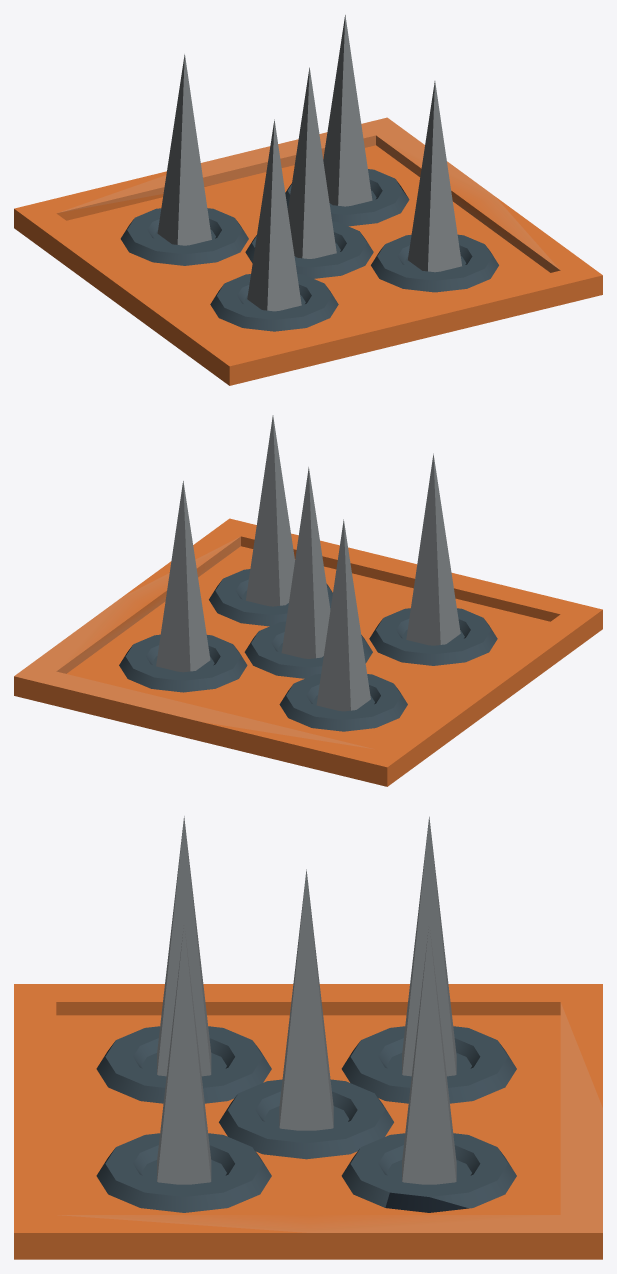
The model's file is Trap_Needle.fbx.
The picture shows the model from 3 angles, top to bottom: view 1: azimuth 30°, elevation 25°; view 2: azimuth 150°, elevation 25°; view 3: azimuth 270°, elevation 25°; orthographic projection. The views are drawn at different scales.
Visible parts, largest first — view 1: Trap_Needle, Needle; view 2: Trap_Needle, Needle; view 3: Trap_Needle, Needle.
Part boxes in pixels (left/top/right/bottom): Trap_Needle: left=14, top=117, right=602, bottom=385; Needle: left=157, top=15, right=461, bottom=311; Trap_Needle: left=14, top=518, right=602, bottom=786; Needle: left=156, top=415, right=460, bottom=711; Trap_Needle: left=14, top=984, right=602, bottom=1259; Needle: left=157, top=816, right=456, bottom=1184.
Bounding box in the file's own units: 100 × 100 × 50.85.
